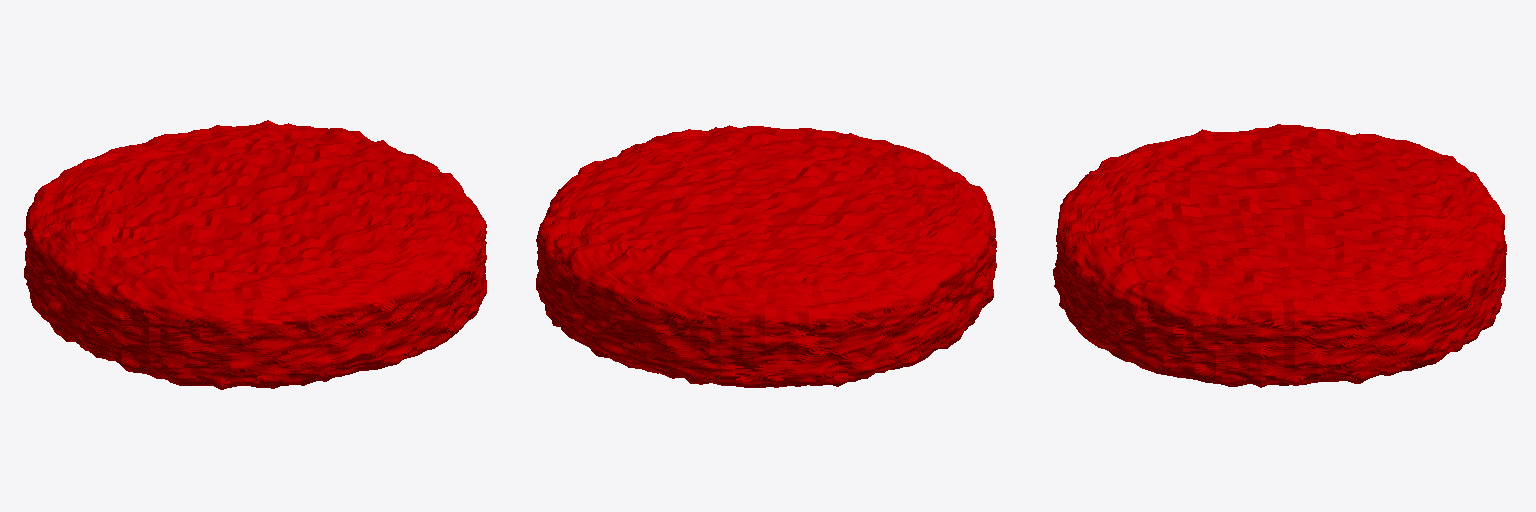
File: Meat.obj
The picture shows the model from 3 angles: view 1: azimuth 30°, elevation 25°; view 2: azimuth 150°, elevation 25°; view 3: azimuth 270°, elevation 25°; orthographic projection.
Parts seen in each view (by area): view 1: Burger_raw.002; view 2: Burger_raw.002; view 3: Burger_raw.002.
Boxes of the visible parts, x1=… form: Burger_raw.002: x1=24, y1=120, x2=486, y2=389; Burger_raw.002: x1=536, y1=125, x2=996, y2=387; Burger_raw.002: x1=1053, y1=124, x2=1506, y2=387.
Bounding box in the file's own units: 4.8 × 1.26 × 4.79.